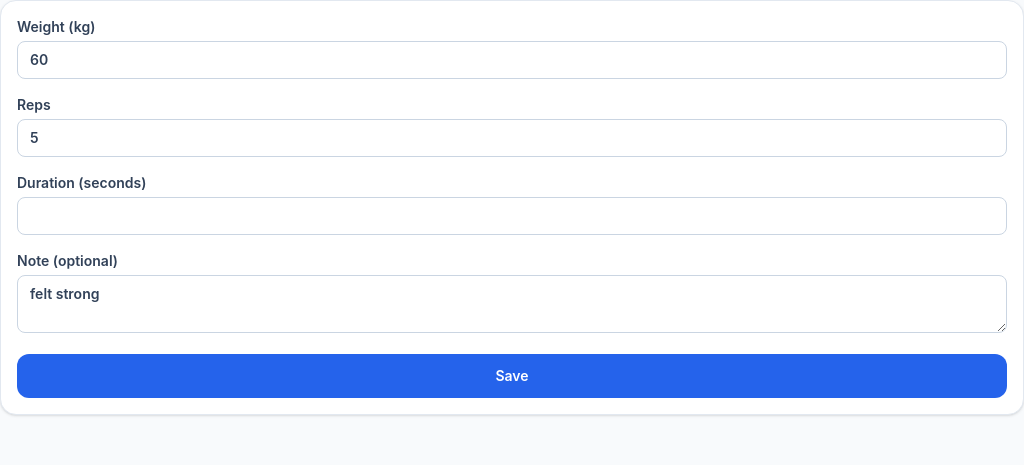
Scenario: ExerciseCapabilityForm › won't save 0 or a negative weight, so a saved weight is never quietly cleared
Replace the text in the number field labelled "Weight (kg)" with "0". click: (512, 60)
box: [17,41,1007,79]
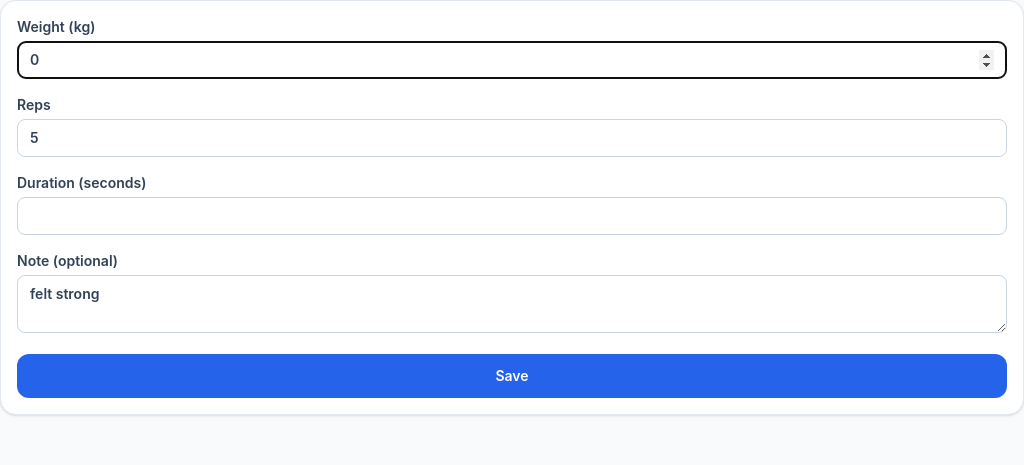
Click the button "Save". click: (512, 376)
box: [17,354,1007,398]
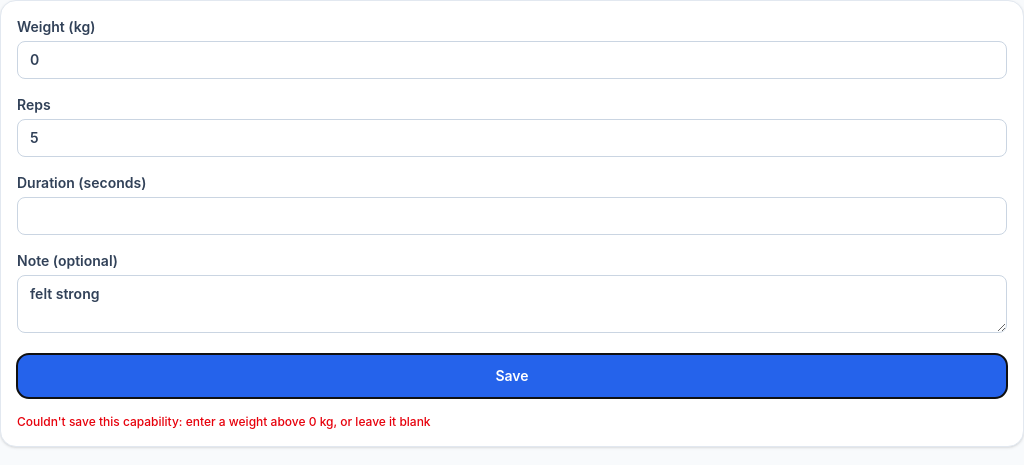
Expected: the text "enter a weight above 0 kg, or leave it blank" is shown, [179,414,431,429]
